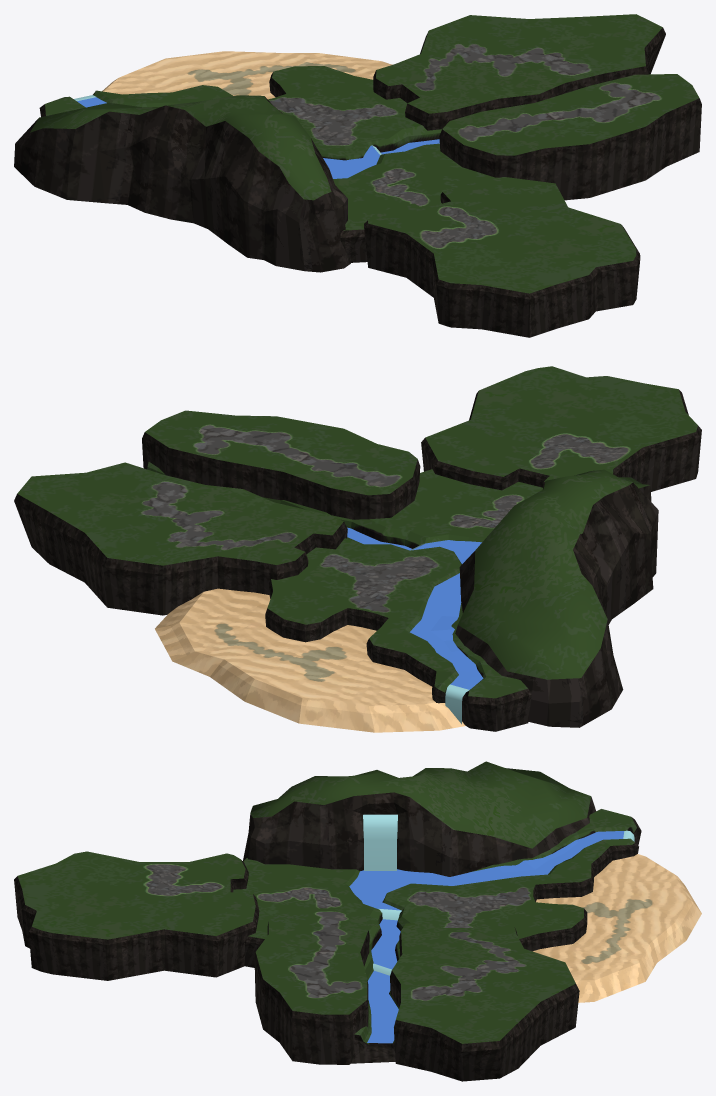
File: IslandLand 1.9.fbx
The picture shows the model from 3 angles, top to bottom: view 1: azimuth 30°, elevation 25°; view 2: azimuth 150°, elevation 25°; view 3: azimuth 270°, elevation 25°; orthographic projection. The views are drawn at different scales.
Visible parts, largest first — view 1: Mountain, Lv4, Lv3, Lv2, Lv1, Lv0, River; view 2: Mountain, Lv2, Lv1, Lv4, Lv0, Lv3, River; view 3: Mountain, Lv4, Lv2, Lv1, Lv3, Lv0, River, WaterFall, River.002, River.001.
Boxes of the visible parts, <box> form: Mountain: <box>14,95,350,272</box>; Lv4: <box>364,177,640,337</box>; Lv3: <box>439,74,701,200</box>; Lv2: <box>373,14,665,130</box>; Lv1: <box>39,66,498,262</box>; Lv0: <box>102,51,392,99</box>; River: <box>77,97,380,178</box>; Mountain: <box>455,469,658,727</box>; Lv2: <box>14,462,347,615</box>; Lv1: <box>147,462,542,731</box>; Lv4: <box>421,366,701,491</box>; Lv0: <box>155,588,465,732</box>; Lv3: <box>142,410,420,519</box>; River: <box>410,540,483,689</box>; Mountain: <box>243,761,596,876</box>; Lv4: <box>14,851,259,980</box>; Lv2: <box>390,921,579,1081</box>; Lv1: <box>233,809,641,1063</box>; Lv3: <box>254,908,369,1064</box>; Lv0: <box>533,854,701,1002</box>; River: <box>349,831,624,910</box>; WaterFall: <box>363,814,397,870</box>; River.002: <box>367,970,398,1043</box>; River.001: <box>371,919,400,969</box>.
Size of the model in its own units: 17226 by 3185 by 18612.
